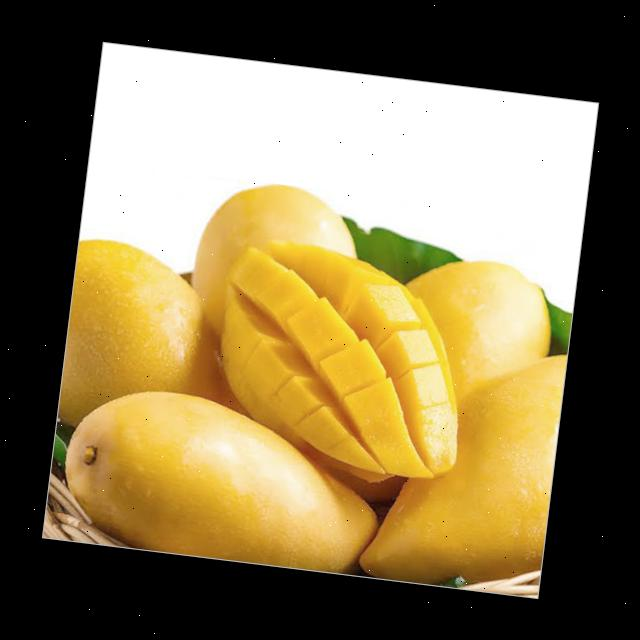Mango: (202, 232, 480, 490), (54, 378, 392, 576), (355, 330, 567, 596), (184, 172, 365, 350)
